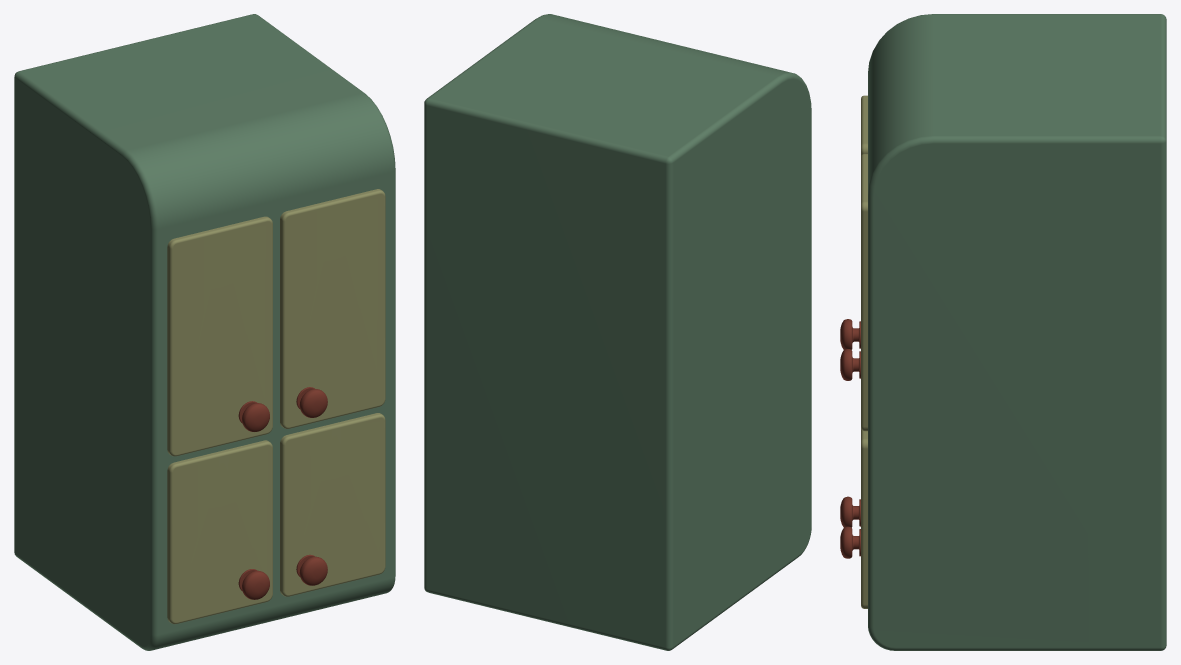
The model's file is SM_Kitchen_Cabinet_I.fbx.
3 renders of one model, left to right at view 1: azimuth 30°, elevation 25°; view 2: azimuth 150°, elevation 25°; view 3: azimuth 270°, elevation 25°, orthographic. The views are drawn at different scales.
Visible parts, largest first — view 1: Cube.045, Cube.046, Cube.047, Cube.048, Cube.049, SM_Shelf_Dresser_A_Drawer_01.010, SM_Shelf_Dresser_A_Drawer_01.004; view 2: Cube.045; view 3: Cube.045, Cube.046, Cube.048, SM_Shelf_Dresser_A_Drawer_01.010, SM_Shelf_Dresser_A_Drawer_01.004.
Part boxes in pixels (box(x1,y1,x2,y2)): Cube.045: box(14, 14, 395, 650); Cube.046: box(280, 189, 385, 428); Cube.047: box(167, 216, 272, 456); Cube.048: box(280, 413, 385, 596); Cube.049: box(167, 440, 272, 624); SM_Shelf_Dresser_A_Drawer_01.010: box(238, 554, 327, 599); SM_Shelf_Dresser_A_Drawer_01.004: box(238, 387, 327, 431); Cube.045: box(424, 14, 811, 650); Cube.045: box(868, 14, 1166, 650); Cube.046: box(861, 154, 867, 431); Cube.048: box(861, 429, 867, 608); SM_Shelf_Dresser_A_Drawer_01.010: box(840, 496, 860, 558); SM_Shelf_Dresser_A_Drawer_01.004: box(840, 319, 860, 380).
Size of the model in its own units: 100 by 190 by 109.
